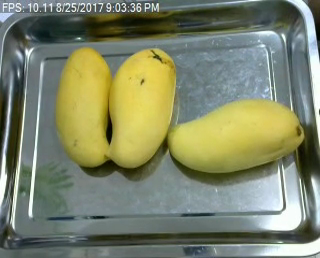Mango: (166, 97, 305, 174), (101, 46, 181, 167), (54, 45, 115, 169)
